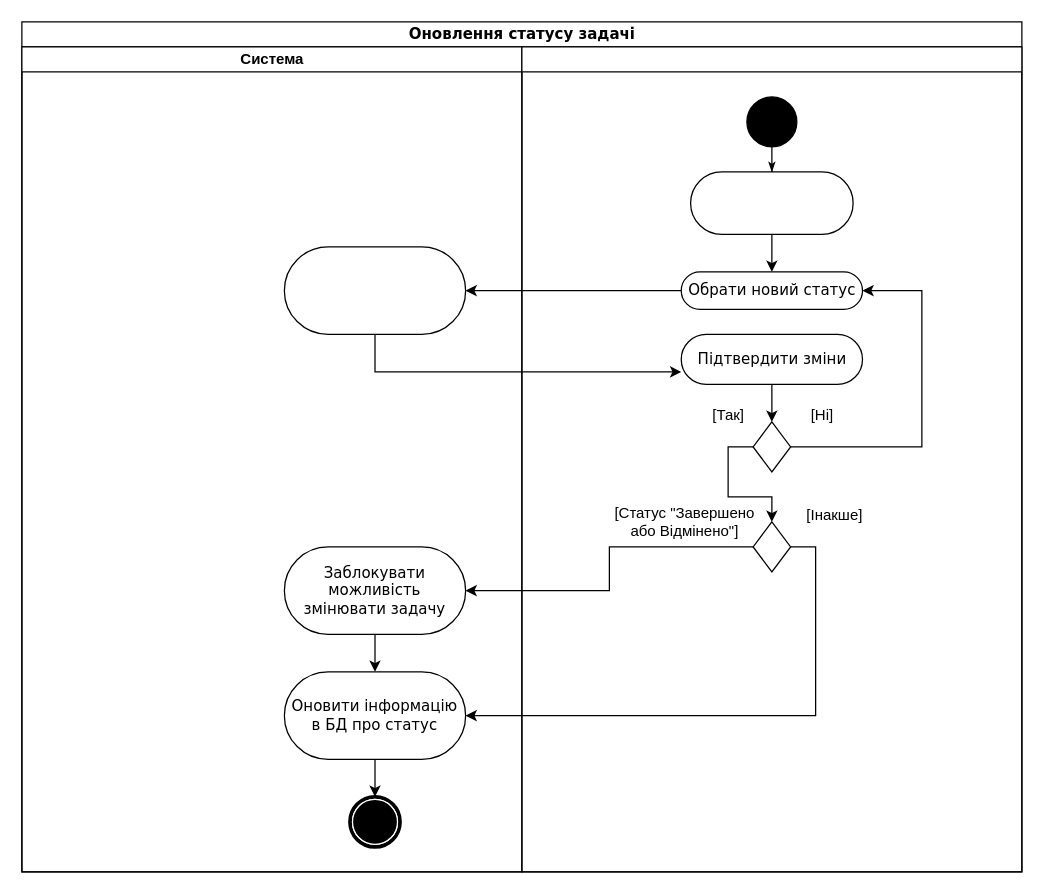
Some shapes in this 1044 by 894 pixel diagram are drawn without their labels. The shapes that lost their labels are listed below. From the top down, each one's box as (x1, y1, x2, y2) in pixels, then its label:
(689, 171, 853, 234): Перейти в меню обраної задачі
(283, 246, 466, 334): Показати окреме вікно з запитом на підтвердження статусу
(521, 46, 1022, 872): Водій
